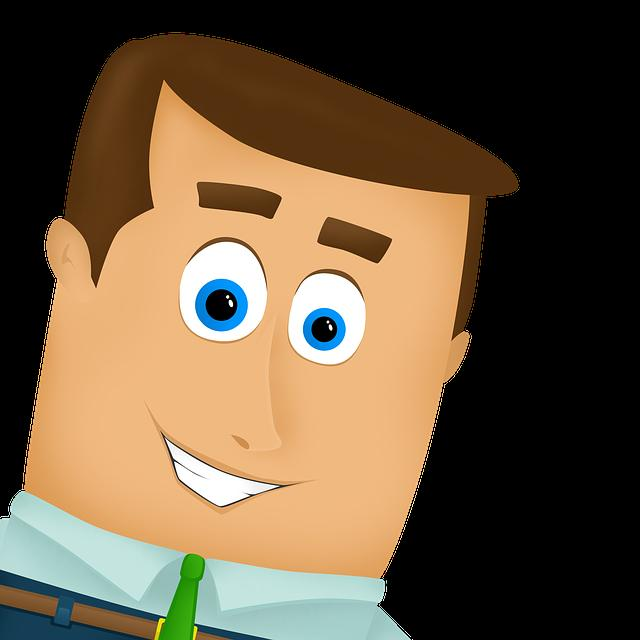Non_Gorille: (12, 0, 606, 640)
